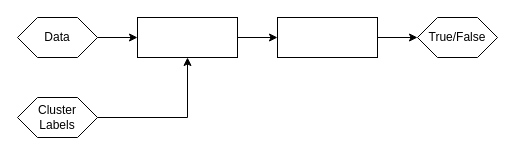
Image size: 515x155. Some labels were removed from this diagram. Each missing label, with the box of its shape:
Standard Scaler: (136, 16, 238, 58)
SVC: (276, 16, 378, 58)
